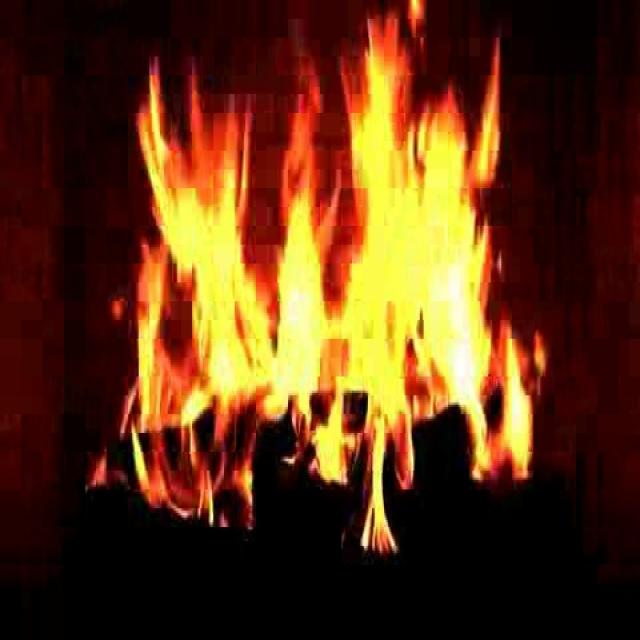fire: (119, 31, 538, 522)
